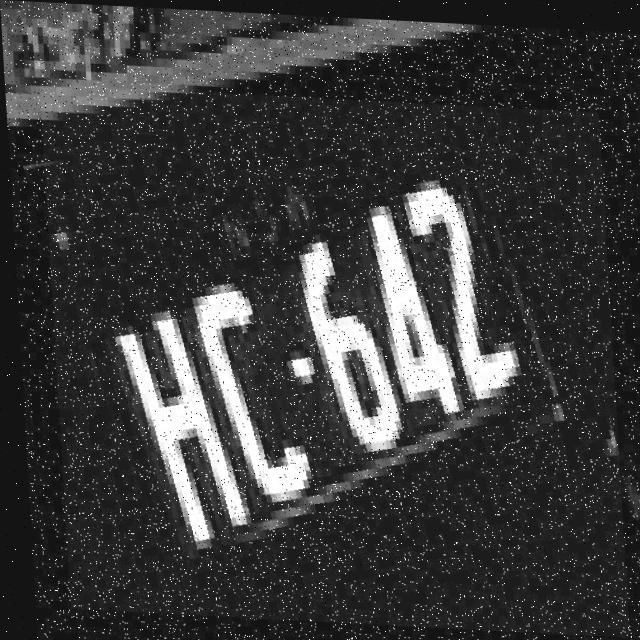LicensePlate: (39, 83, 622, 631)
